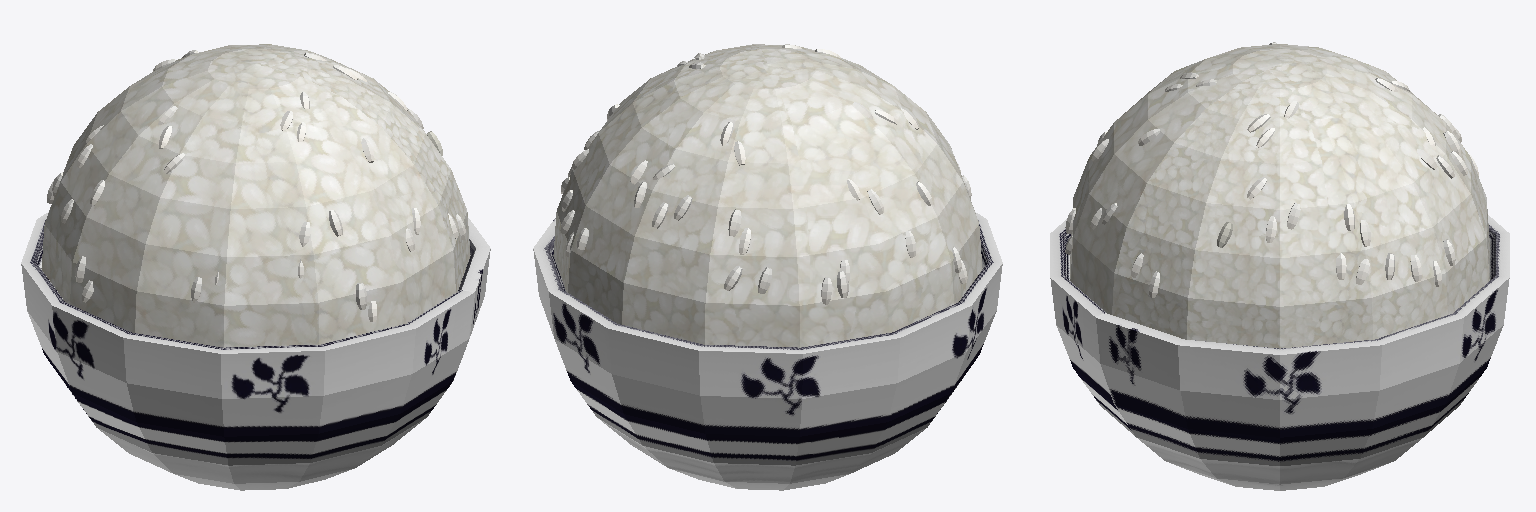
3 renders of one model, left to right at view 1: azimuth 30°, elevation 25°; view 2: azimuth 150°, elevation 25°; view 3: azimuth 270°, elevation 25°, orthographic.
Visible parts, largest first — view 1: bamboo_skewers_bunch_:group3 props; view 2: bamboo_skewers_bunch_:group3 props; view 3: bamboo_skewers_bunch_:group3 props.
Part boxes in pixels (left/top/right/bottom): bamboo_skewers_bunch_:group3 props: left=21, top=44, right=490, bottom=490; bamboo_skewers_bunch_:group3 props: left=533, top=44, right=1002, bottom=490; bamboo_skewers_bunch_:group3 props: left=1050, top=42, right=1509, bottom=490.
Size of the model in its own units: 7.74 by 6.96 by 7.55.
1 materials, 1 textured.